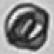correct: (5, 5, 49, 50)
